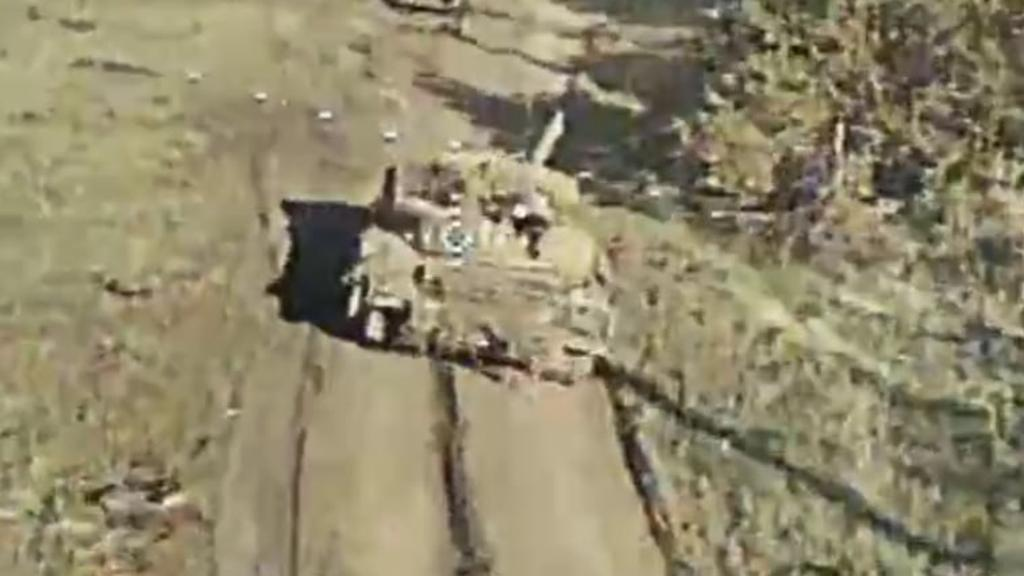TANK: (343, 96, 615, 388)
